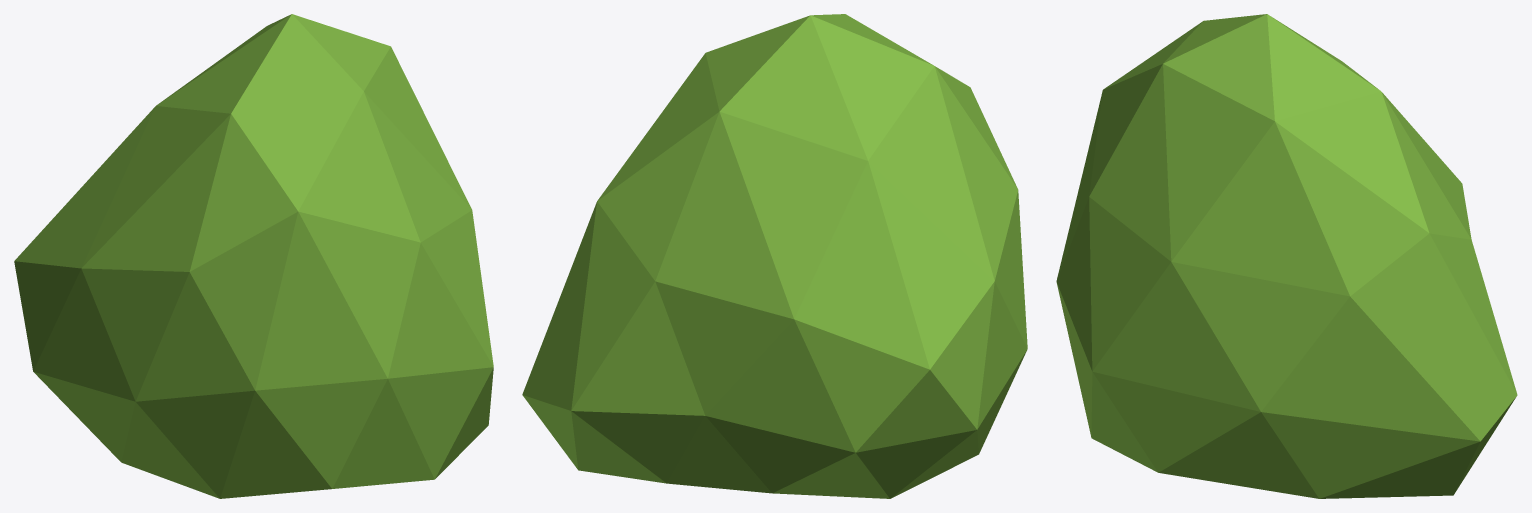
The model's file is bush-L.gltf.
The picture shows the model from 3 angles, left to right: view 1: azimuth 30°, elevation 25°; view 2: azimuth 150°, elevation 25°; view 3: azimuth 270°, elevation 25°; orthographic projection. The views are drawn at different scales.
Parts seen in each view (by area): view 1: Bush1; view 2: Bush1; view 3: Bush1.
Boxes of the visible parts, left/top/right/bottom form: Bush1: left=14, top=14, right=493, bottom=498; Bush1: left=522, top=14, right=1027, bottom=498; Bush1: left=1056, top=14, right=1517, bottom=498.
Bounding box in the file's own units: 2.83 × 2.93 × 2.92.
